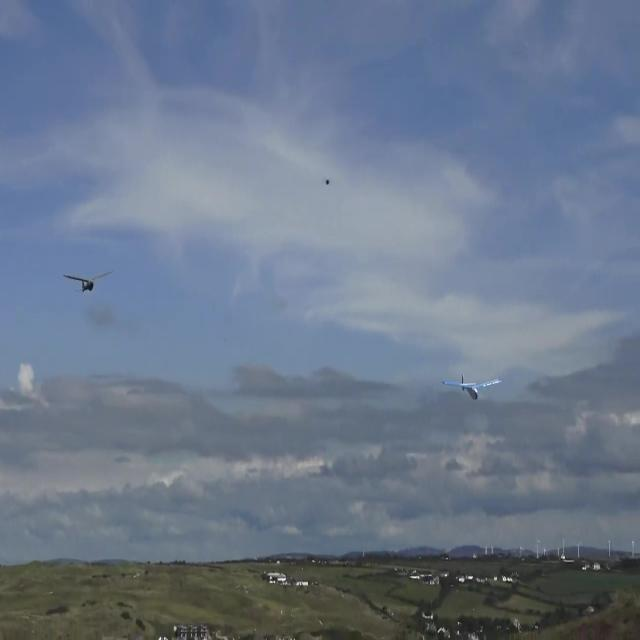iha: (441, 373, 502, 401), (0, 269, 51, 297)
